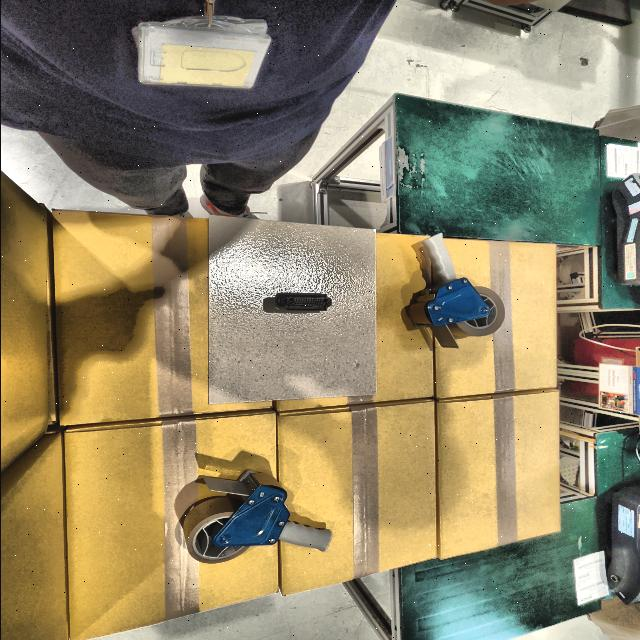P38: (274, 292, 330, 312)
